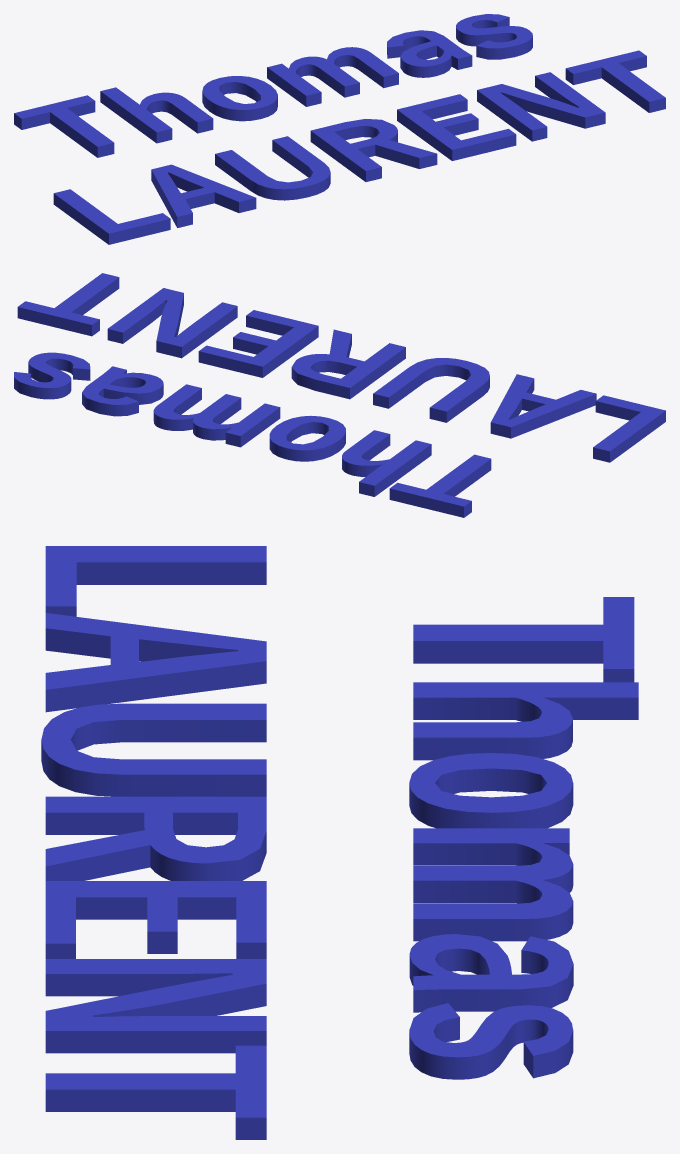
Rendered from thomaslaurent.fbx.
3 renders of one model, top to bottom at view 1: azimuth 30°, elevation 25°; view 2: azimuth 150°, elevation 25°; view 3: azimuth 270°, elevation 25°, orthographic. The views are drawn at different scales.
Visible parts, largest first — view 1: node_id186 (×2); view 2: node_id186 (×2); view 3: node_id186 (×2).
Boxes of the visible parts, x1=… form: node_id186 (×2): x1=14, y1=14, x2=665, y2=244; node_id186 (×2): x1=14, y1=273, x2=665, y2=517; node_id186 (×2): x1=41, y1=546, x2=638, y2=1139.
Bounding box in the file's own units: 1.03 × 0.0188 × 0.4526.
